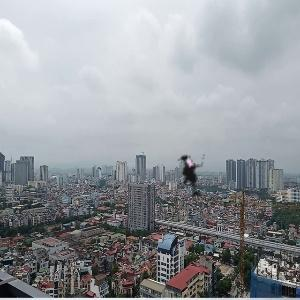drone: (160, 140, 233, 213)
